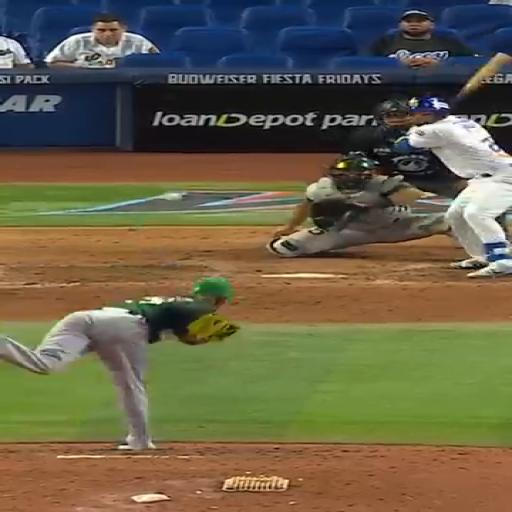bat: (453, 53, 511, 104)
